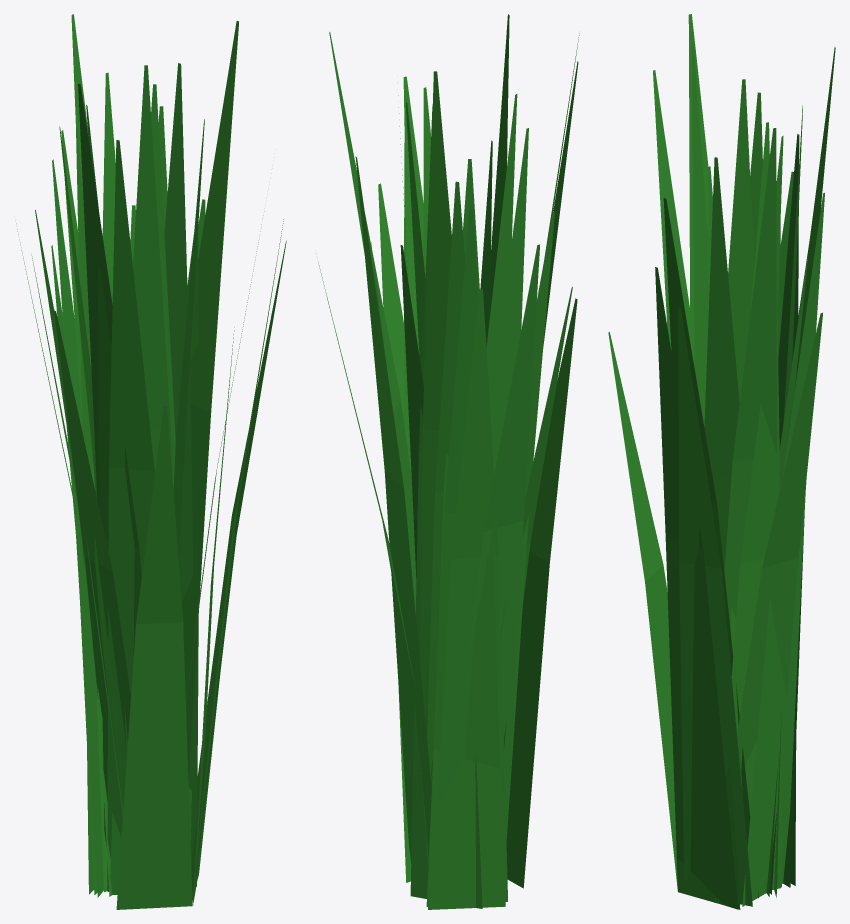
3 views of the same model, side by side, from view 1: azimuth 30°, elevation 25°; view 2: azimuth 150°, elevation 25°; view 3: azimuth 270°, elevation 25° (orthographic). The views are drawn at different scales.
Visible parts, largest first — view 1: IL3DN_Plant_Grass_03_LOD0; view 2: IL3DN_Plant_Grass_03_LOD0; view 3: IL3DN_Plant_Grass_03_LOD0.
Part boxes in pixels (x1,y1,x2,y2): IL3DN_Plant_Grass_03_LOD0: (16,14,286,909); IL3DN_Plant_Grass_03_LOD0: (318,14,579,909); IL3DN_Plant_Grass_03_LOD0: (608,14,835,909).
Size of what is drawn, in the model's own units: 58.34 by 219 by 54.47.
